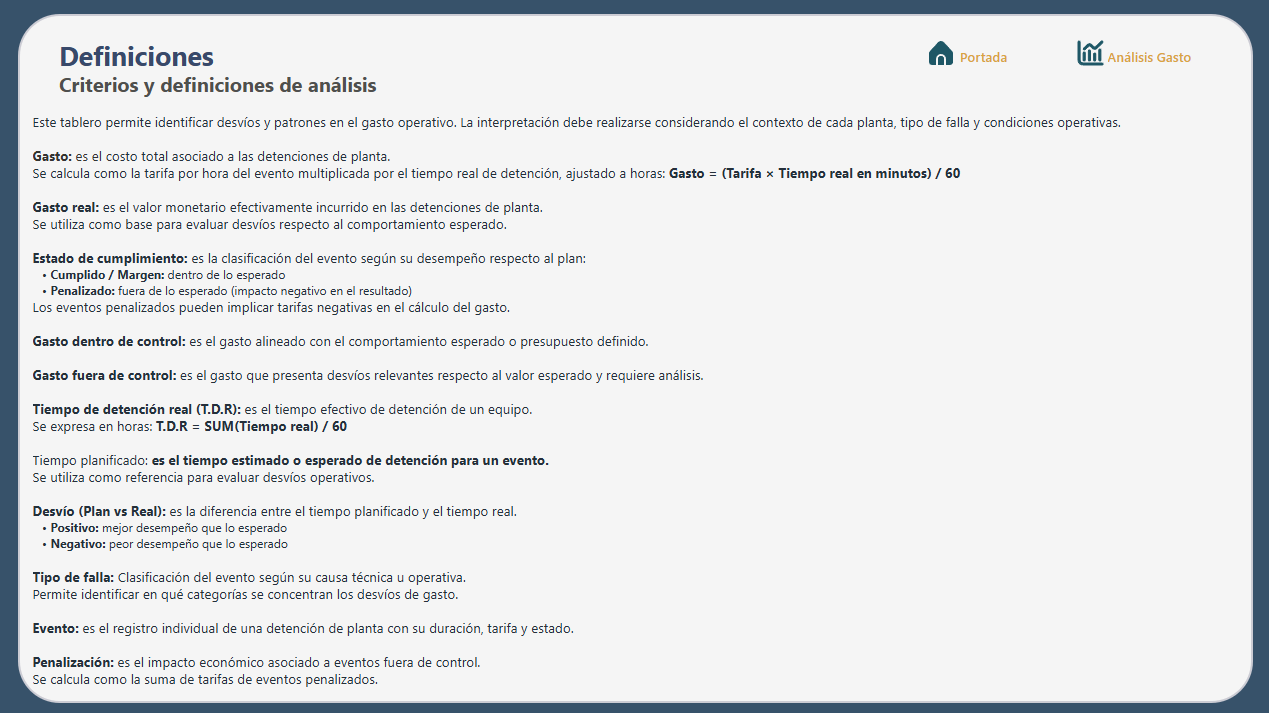

This screenshot's page, from the dashboard's own definition file:
{"tool":"powerbi","page":{"name":"Glosario","canvas":[1280,720],"ordinal":1},"visuals":[{"type":"actionButton","box":[928,40,88,40],"z":0},{"type":"actionButton","box":[1080,40,120,40],"z":1000},{"type":"textbox","box":[32,112,1216,592],"z":2000}]}

Visuals, with their boxes in screenshot pixels (x1, y1, x2, y2), scaled from the page's 1280x720 canvas onto the 1269x713 screenshot:
actionButton: bbox=[920, 40, 1007, 79]
actionButton: bbox=[1071, 40, 1190, 79]
textbox: bbox=[32, 111, 1237, 697]
